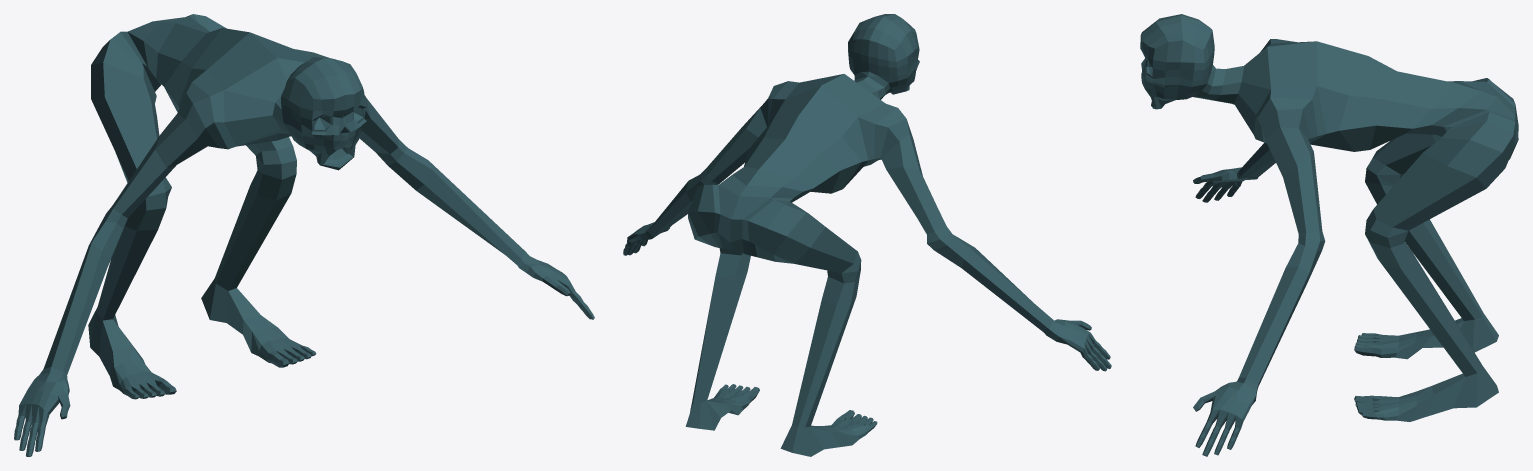
Rendered from monster_lp.fbx.
3 views of the same model, side by side, from view 1: azimuth 30°, elevation 25°; view 2: azimuth 150°, elevation 25°; view 3: azimuth 270°, elevation 25° (orthographic). The views are drawn at different scales.
Parts seen in each view (by area): view 1: monster_lp; view 2: monster_lp; view 3: monster_lp.
Boxes of the visible parts, bbox=[...] form: monster_lp: bbox=[14, 14, 594, 456]; monster_lp: bbox=[623, 14, 1111, 456]; monster_lp: bbox=[1140, 14, 1518, 456].
Size of the model in its own units: 186 by 124 by 116.
